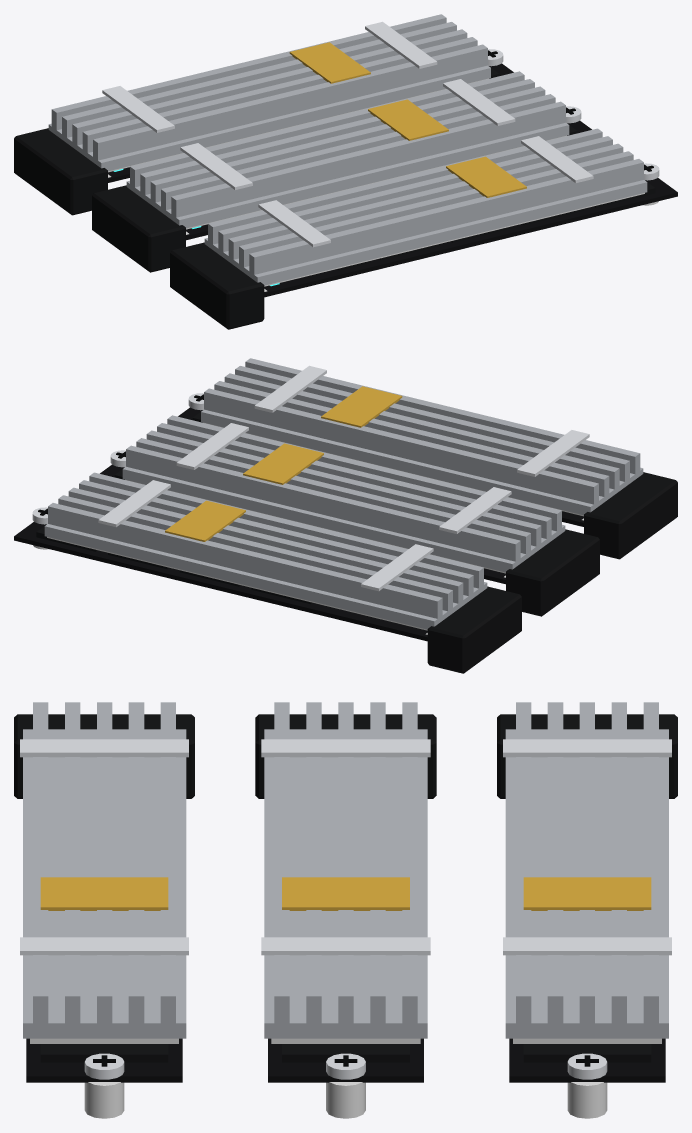
Rendered from hwm_sto_ssd_7tb.glb.
The picture shows the model from 3 angles, top to bottom: view 1: azimuth 30°, elevation 25°; view 2: azimuth 150°, elevation 25°; view 3: azimuth 270°, elevation 25°; orthographic projection. The views are drawn at different scales.
Visible parts, largest first — view 1: SSD_2, SSD_0, SSD_1, Slots; view 2: SSD_0, SSD_2, SSD_1, Slots; view 3: SSD_0, SSD_2, SSD_1, Slots, Screw_0, Screw_2, Screw_1.
Part boxes in pixels (box(x1,y1,x2,y2)): SSD_2: box(204, 128, 677, 297); SSD_0: box(48, 14, 513, 182); SSD_1: box(126, 71, 591, 240); Slots: box(14, 63, 658, 329); SSD_0: box(14, 472, 487, 641); SSD_2: box(178, 358, 643, 526); SSD_1: box(100, 415, 565, 584); Slots: box(33, 407, 677, 673); SSD_0: box(503, 702, 671, 1082); SSD_2: box(20, 702, 188, 1082); SSD_1: box(261, 702, 430, 1082); Slots: box(14, 714, 677, 1118); Screw_0: box(567, 1053, 607, 1079); Screw_2: box(84, 1053, 124, 1079); Screw_1: box(326, 1053, 365, 1079).
Size of the model in its own units: 0.1155 by 0.0154 by 0.0935.
